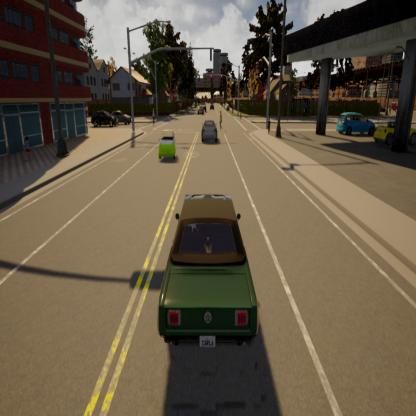Cars: (142, 183, 272, 378), (371, 106, 416, 161), (331, 104, 377, 140), (156, 126, 182, 169), (112, 100, 138, 137), (198, 112, 223, 150), (89, 100, 114, 129), (195, 96, 207, 116), (209, 99, 215, 109)
Pedestrian: (22, 126, 39, 167), (264, 111, 274, 146), (218, 103, 226, 134), (150, 102, 158, 130)
